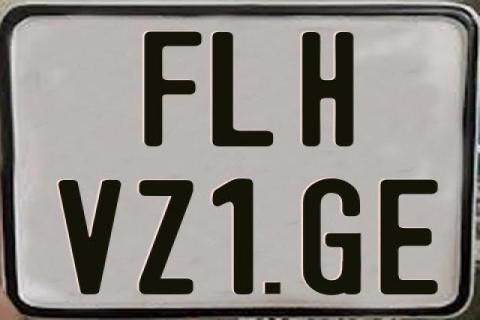0: (212, 178, 257, 296)
E: (377, 178, 435, 294)
F: (141, 31, 200, 148)
G: (303, 176, 362, 293)
H: (302, 32, 354, 151)
L: (210, 29, 271, 145)
V: (57, 178, 123, 296)
Z: (137, 180, 196, 296)
